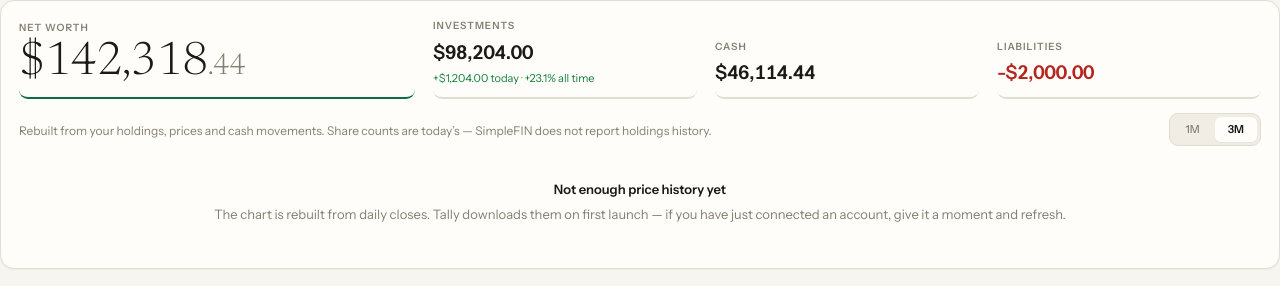
ValueCard › opens on net worth, and a tab swaps the caveat
Click the tab "Cash $46,114.44": (731, 46) [715,17,979,99]
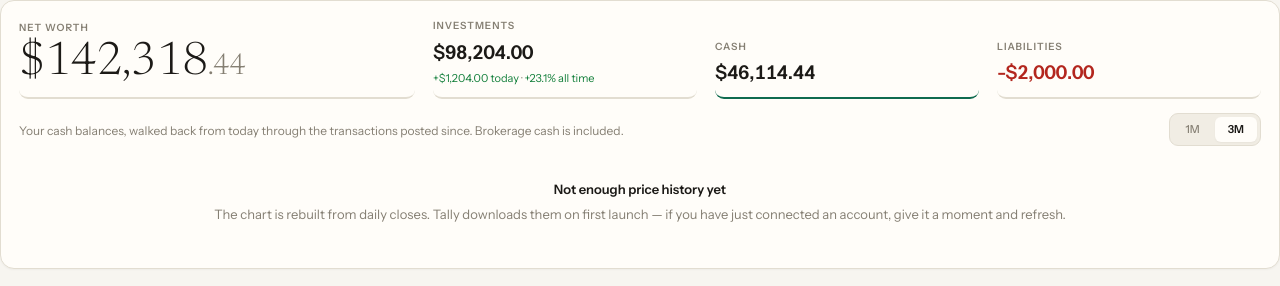
Expected: the text "Your cash balances, walked back from today through the transactions posted since. Brokerage cash is included." is shown, [19,123,624,138]
